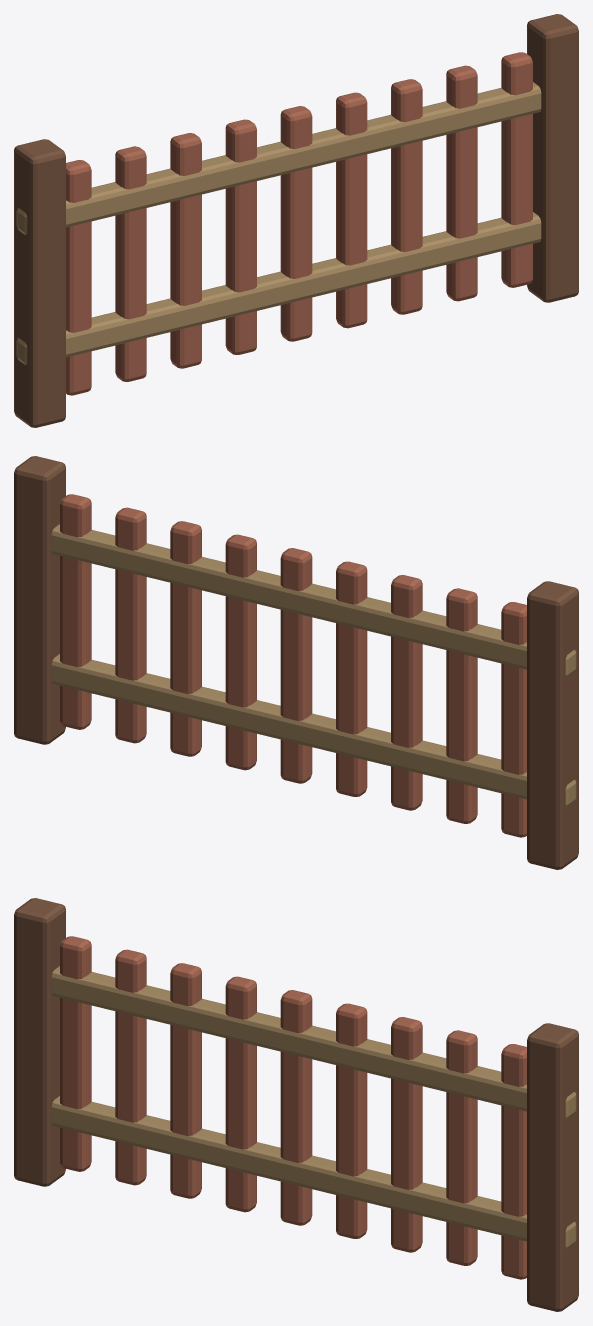
The model's file is attachment_garden_fence_2m__attachments.glb.
3 views of the same model, one above another, from view 1: azimuth 30°, elevation 25°; view 2: azimuth 150°, elevation 25°; view 3: azimuth 330°, elevation 25° (orthographic).
Parts seen in each view (by area): view 1: attachment_garden_fence_2m__attachments__mesh_00; view 2: attachment_garden_fence_2m__attachments__mesh_00; view 3: attachment_garden_fence_2m__attachments__mesh_00.
Boxes of the visible parts, x1,y1,x2,y2 form: attachment_garden_fence_2m__attachments__mesh_00: (14, 14, 578, 427); attachment_garden_fence_2m__attachments__mesh_00: (14, 456, 578, 869); attachment_garden_fence_2m__attachments__mesh_00: (14, 898, 578, 1311).
Bounding box in the file's own units: 2 × 0.94 × 0.13.
